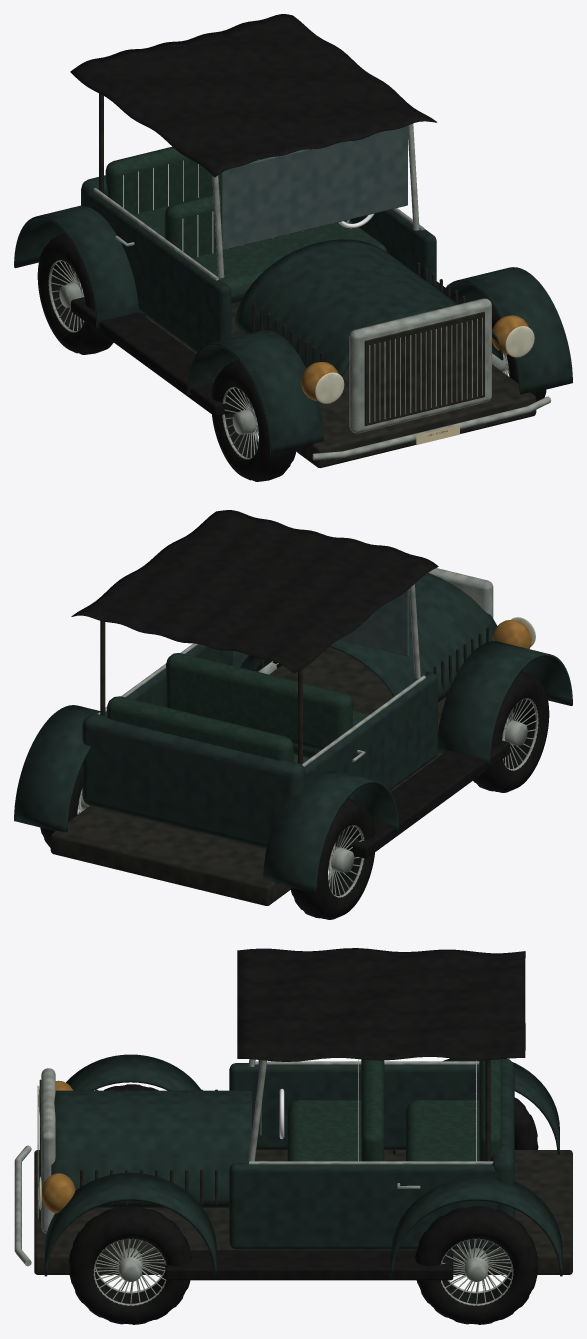
The model's file is Motorcar.fbx.
The picture shows the model from 3 angles, top to bottom: view 1: azimuth 30°, elevation 25°; view 2: azimuth 150°, elevation 25°; view 3: azimuth 270°, elevation 25°; orthographic projection.
Parts seen in each view (by area): view 1: Motorcar_MotorPaint, Motorcar_Rubber, Motorcar_Iron, Motorcar_GlassPatina, Motorcar_Chrome, Motorcar_Leather, Motorcar_Porcelain, Motorcar_Brass, Motorcar_Walnut; view 2: Motorcar_MotorPaint, Motorcar_Rubber, Motorcar_Iron, Motorcar_Leather, Motorcar_Chrome, Motorcar_GlassPatina, Motorcar_Brass; view 3: Motorcar_MotorPaint, Motorcar_Rubber, Motorcar_Leather, Motorcar_Iron, Motorcar_Chrome, Motorcar_Brass, Motorcar_Walnut.
Boxes of the visible parts, x1,y1,x2,y2 form: Motorcar_MotorPaint: [14, 175, 572, 455]; Motorcar_Rubber: [37, 14, 546, 481]; Motorcar_Iron: [76, 93, 536, 467]; Motorcar_GlassPatina: [221, 125, 407, 250]; Motorcar_Chrome: [48, 123, 551, 460]; Motorcar_Leather: [105, 146, 387, 303]; Motorcar_Porcelain: [315, 326, 534, 403]; Motorcar_Brass: [301, 315, 528, 401]; Motorcar_Walnut: [123, 159, 374, 256]; Motorcar_MotorPaint: [14, 573, 572, 893]; Motorcar_Rubber: [40, 510, 549, 919]; Motorcar_Iron: [50, 621, 510, 905]; Motorcar_Leather: [107, 653, 369, 762]; Motorcar_Chrome: [77, 568, 538, 897]; Motorcar_GlassPatina: [338, 589, 409, 656]; Motorcar_Brass: [492, 620, 531, 648]; Motorcar_MotorPaint: [44, 1054, 562, 1276]; Motorcar_Rubber: [69, 948, 538, 1324]; Motorcar_Leather: [287, 1059, 502, 1161]; Motorcar_Iron: [34, 1060, 572, 1274]; Motorcar_Chrome: [14, 1059, 513, 1305]; Motorcar_Brass: [42, 1080, 75, 1213]; Motorcar_Walnut: [279, 1059, 476, 1161].
Size of the model in its own units: 240 by 202 by 388.
